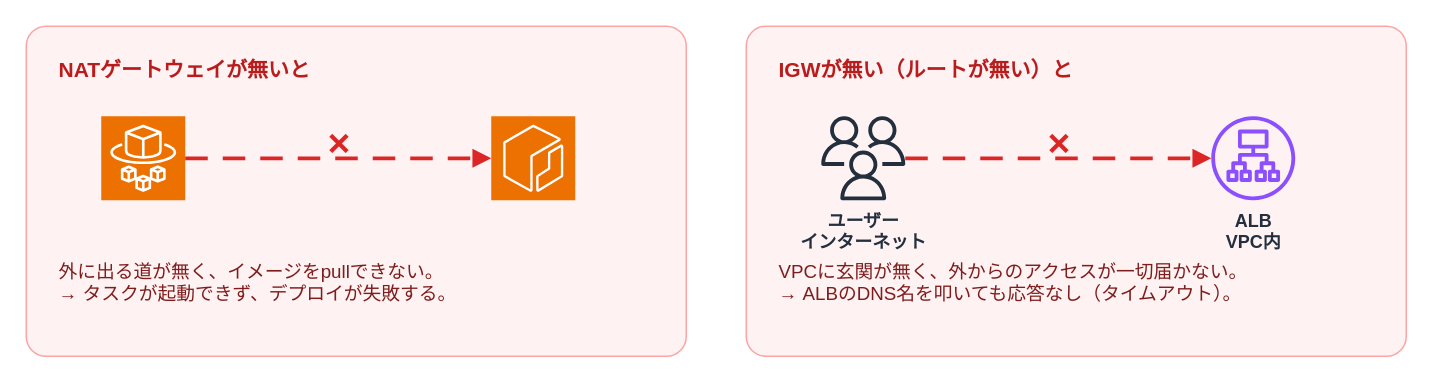
Some shapes in this 1433 by 383 pixel diagram are drawn without their labels. Here are the shapes that lost their labels. From the top down, the centre of each, then its label:
the point at 142,157: ECSタスク プライベート内
the point at 532,157: ECR イメージ置き場
